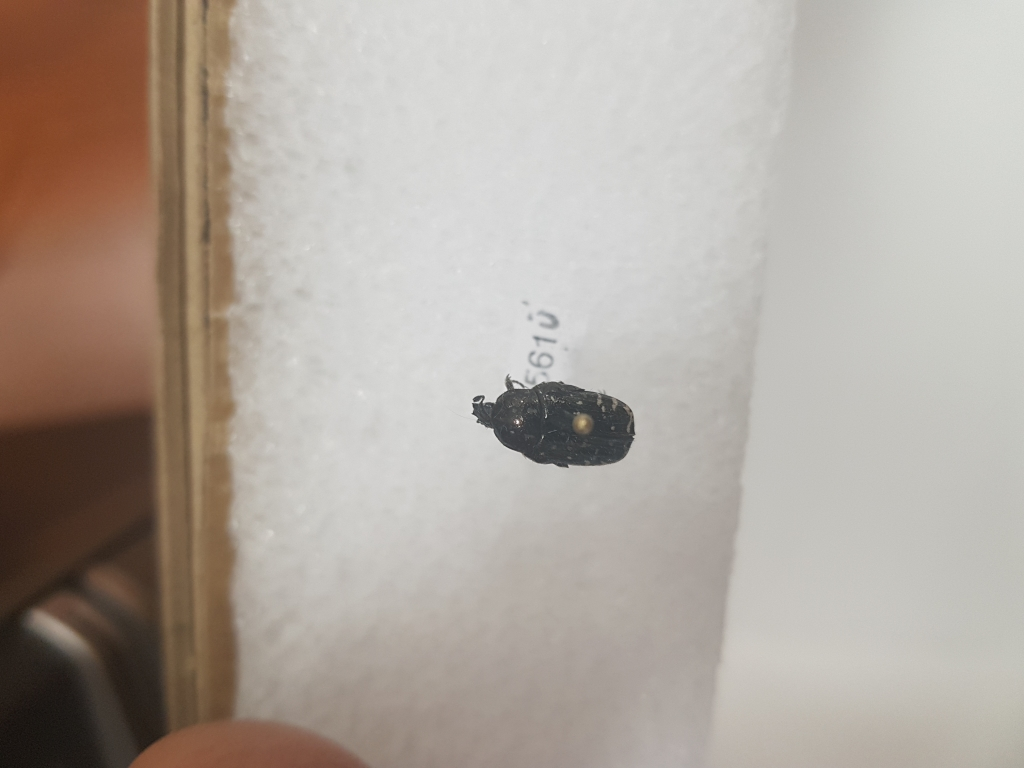Oxythyrea_albopicta: (468, 367, 651, 483)
